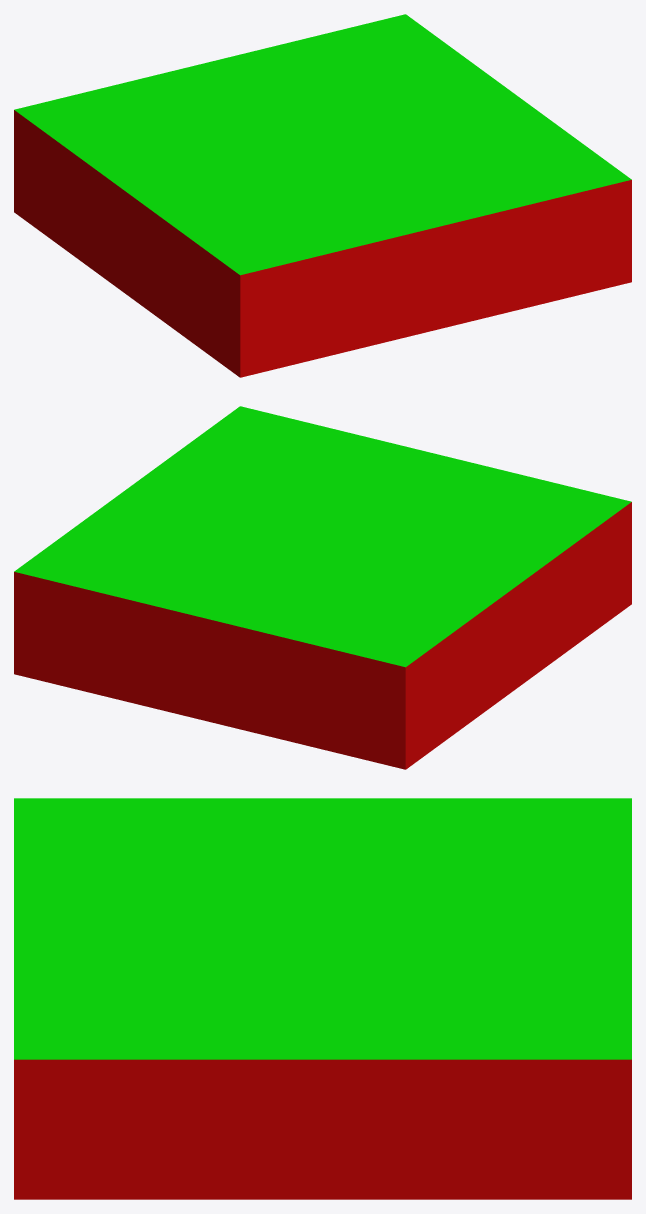
Rendered from 4x4Block.fbx.
3 views of the same model, one above another, from view 1: azimuth 30°, elevation 25°; view 2: azimuth 150°, elevation 25°; view 3: azimuth 270°, elevation 25° (orthographic). The views are drawn at different scales.
Visible parts, largest first — view 1: pCube4; view 2: pCube4; view 3: pCube4.
Boxes of the visible parts, left/top/right/bottom form: pCube4: left=14, top=14, right=631, bottom=377; pCube4: left=14, top=406, right=631, bottom=769; pCube4: left=14, top=798, right=631, bottom=1199.
Bounding box in the file's own units: 4 × 1 × 4.
